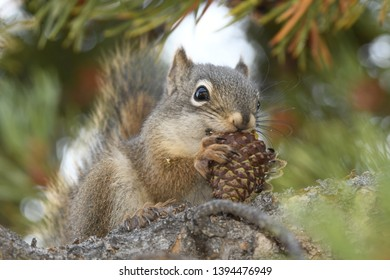Pc: (210, 131, 273, 205)
